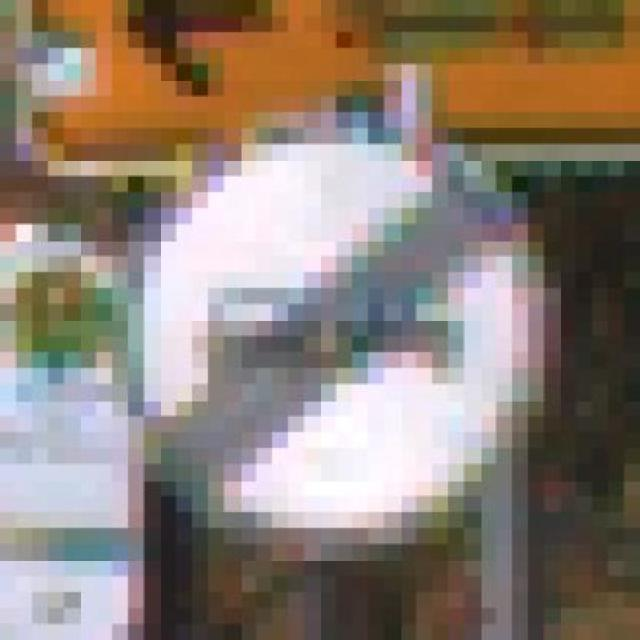No_Over_Taking: (64, 79, 591, 576)
